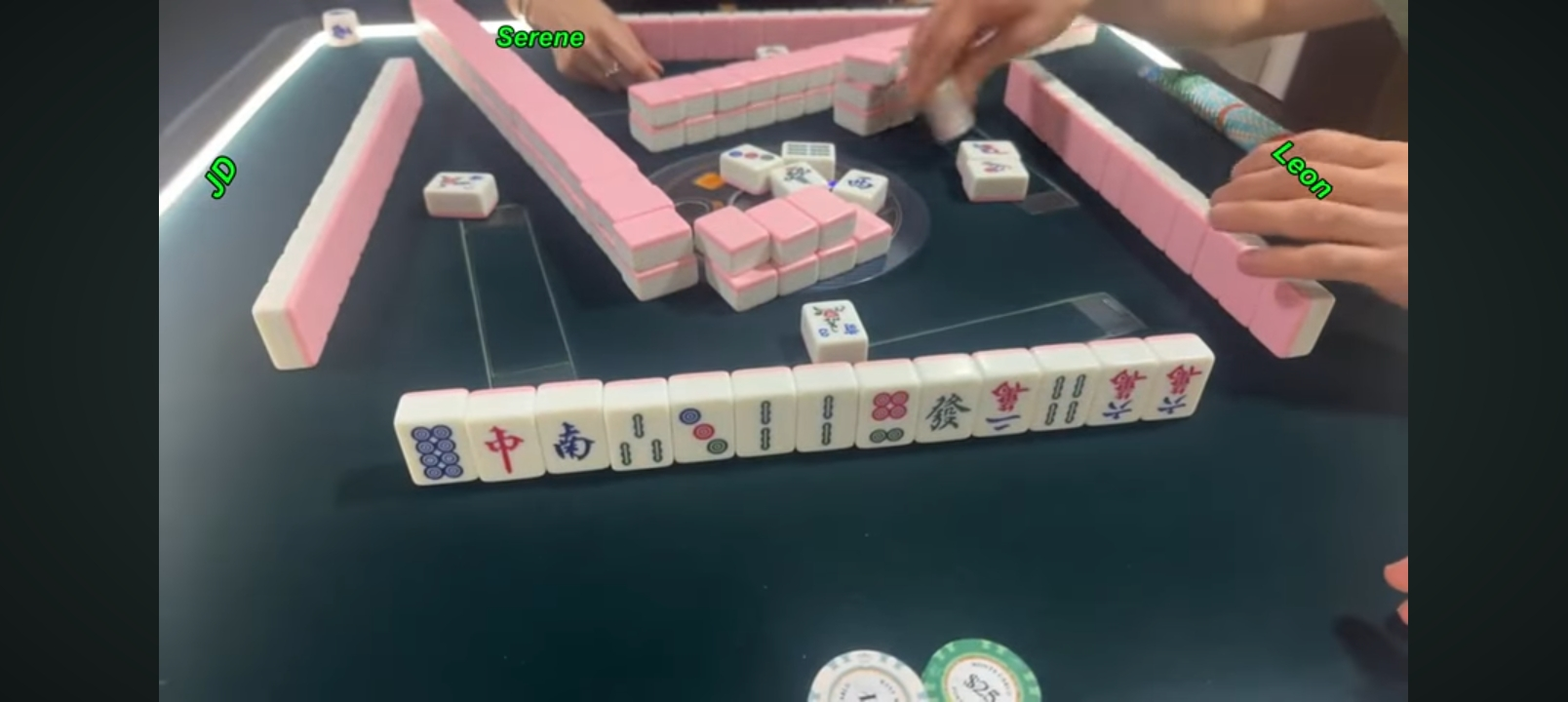TILE: (394, 420, 476, 483), (469, 417, 545, 478), (540, 407, 609, 474), (606, 408, 672, 468), (733, 396, 800, 454), (858, 388, 922, 447), (672, 403, 732, 464), (921, 381, 982, 439), (1152, 362, 1211, 419), (1093, 368, 1155, 422), (800, 392, 857, 450), (1039, 371, 1096, 428), (981, 377, 1036, 436), (804, 299, 870, 341)
